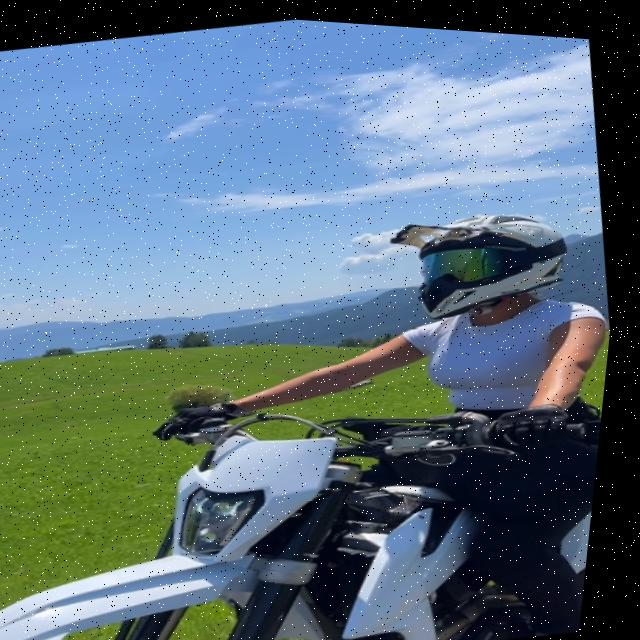illegal_helmet: (380, 182, 595, 333)
